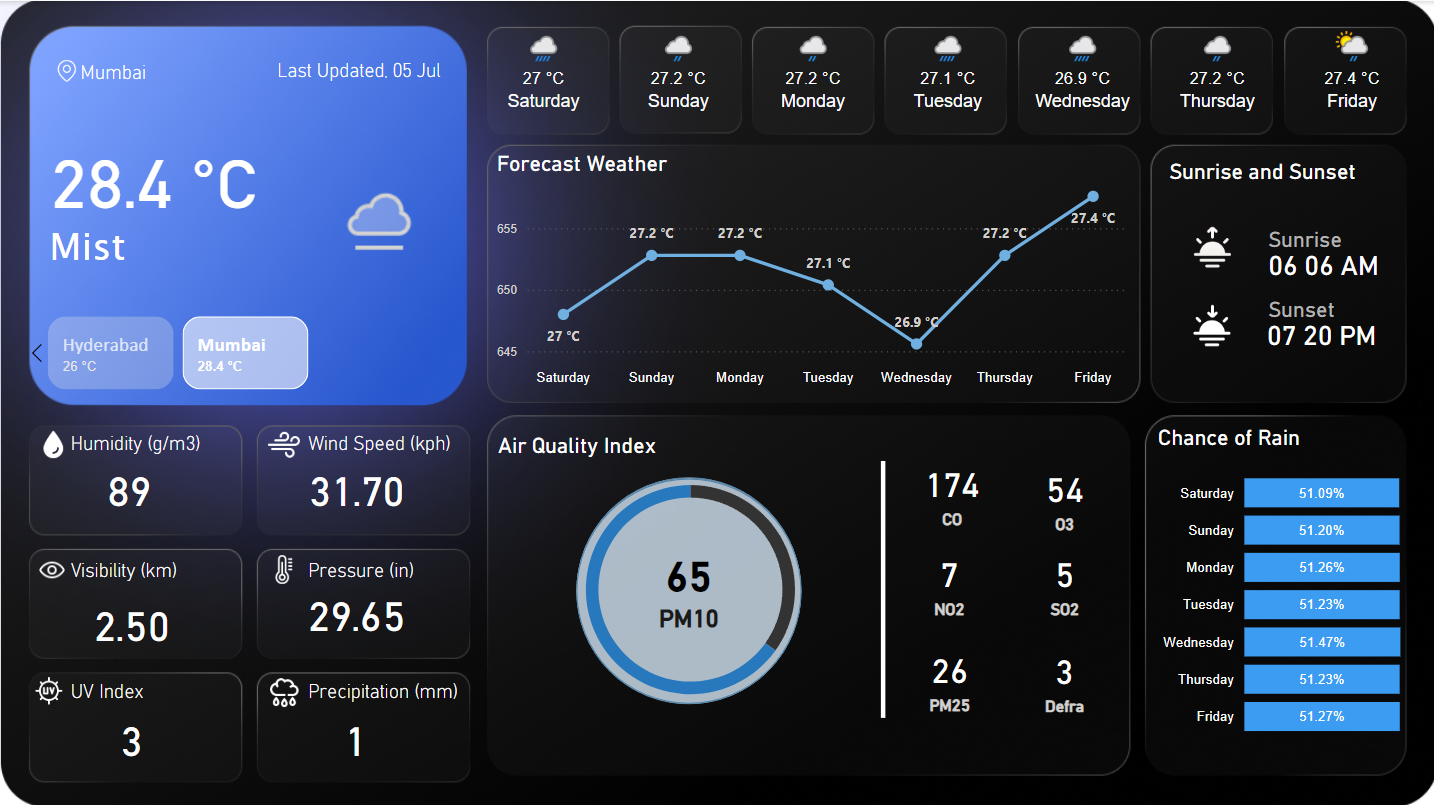

Layout of this report page (visuals, bound fields, positions):
{"tool":"powerbi","page":{"name":"Page 1","canvas":[1280,720],"ordinal":0},"visuals":[{"type":"advancedSlicerVisual","fields":{"Values":["Locations.location.name"]},"box":[17.5,276.2,402.5,75],"z":0},{"type":"shape","box":[36.2,106.2,222.5,112.5],"z":1000},{"type":"shape","box":[36.2,170,403.8,97.5],"z":2000},{"type":"shape","box":[67.5,36.2,110,52.5],"z":3000},{"type":"shape","box":[237.7,35,158,53.1],"z":4000},{"type":"image","box":[26.2,47.5,66.2,28.8],"z":5000},{"type":"cardVisual","fields":{"Data":["Min(current.current.condition.icon)"]},"box":[270.9,133.3,124.9,106.7],"z":6000},{"type":"image","box":[26.7,488.4,39.3,36.5],"z":7000},{"type":"shape","box":[58.9,480,158.6,53.3],"z":8000},{"type":"shape","box":[270.9,367.7,158.6,53.3],"z":9000},{"type":"image","box":[26.7,377.5,42.1,35.1],"z":10000},{"type":"shape","box":[58.9,367.7,158.6,53.3],"z":11000},{"type":"image","box":[230.2,374.7,45,40],"z":12000},{"type":"shape","box":[270.9,480,158.6,53.3],"z":13000},{"type":"shape","box":[270.9,588.1,158.6,53.3],"z":14000},{"type":"shape","box":[58.9,588.1,158.6,53.3],"z":15000},{"type":"image","box":[230.2,595.1,44.9,40.7],"z":16000},{"type":"image","box":[21.1,596.5,44.9,35],"z":17000},{"type":"image","box":[230.2,488.4,44.9,35.1],"z":18000},{"type":"card","fields":{"Values":["Sum(current.current.humidity)"]},"box":[50.5,390.2,130.5,85.6],"z":19000},{"type":"card","fields":{"Values":["Sum(current.current.wind_kph)"]},"box":[252.6,390.2,130.5,85.6],"z":20000},{"type":"card","fields":{"Values":["Sum(current.current.pressure_in)"]},"box":[252.6,502.5,130.5,85.6],"z":21000},{"type":"card","fields":{"Values":["Sum(current.current.precip_mm)"]},"box":[251.2,613.3,130.5,85.6],"z":22000},{"type":"card","fields":{"Values":["Sum(current.current.vis_km)"]},"box":[51.9,510.9,130.5,85.6],"z":23000},{"type":"card","fields":{"Values":["Sum(current.current.uv)"]},"box":[51.9,613.3,130.5,85.6],"z":24000},{"type":"advancedSlicerVisual","fields":{"Values":["forecast_day.Day_Name"]},"box":[422.5,15.4,844.9,101.1],"z":25000},{"type":"lineChart","title":"Forecast Weather","fields":{"Y":["Sum(forecast_day.forecast.forecastday.day.avgtemp_c)"],"Category":["forecast_day.Day_Name"]},"box":[437.9,133.3,572.6,217.5],"z":26000},{"type":"shape","box":[1038.6,133.3,211.9,36.5],"z":27000},{"type":"shape","box":[1047,169.8,221.8,112.3],"z":28000},{"type":"shape","box":[1124.2,178.2,124.9,68.8],"z":29000},{"type":"shape","box":[1124.6,240.6,125.3,68.5],"z":30000},{"type":"shape","box":[1124.2,200.7,124.9,68.8],"z":31000},{"type":"shape","box":[1122.9,262.3,125.3,68.5],"z":32000},{"type":"image","box":[1049.8,193.7,60.4,50.5],"z":33000},{"type":"image","box":[1049.8,263.9,60.4,50.5],"z":34000},{"type":"hundredPercentStackedBarChart","title":"Chance of Rain","fields":{"Category":["forecast_day.Day_Name"],"Y":["Sum(forecast_day.forecast.forecastday.day.daily_chance_of_rain)","_Measures.left_value_rain"]},"box":[1026,377.5,226,291.9],"z":35000},{"type":"shape","box":[440.7,377.5,211.9,36.5],"z":36000},{"type":"card","fields":{"Values":["Sum(current.current.air_quality.co)"]},"box":[800,400,95.4,75.8],"z":37000},{"type":"card","fields":{"Values":["Sum(current.current.air_quality.gb-defra-index)"]},"box":[906.7,568.4,84.2,70.2],"z":38000},{"type":"shape","box":[513,424.4,200.5,202.2],"z":38250},{"type":"shape","box":[513.7,425.3,200.7,200.7],"z":38500},{"type":"card","fields":{"Values":["Sum(current.current.air_quality.no2)"]},"box":[797.2,481.4,96.8,74.4],"z":39000},{"type":"card","fields":{"Values":["Sum(current.current.air_quality.o3)"]},"box":[906.7,400,84.2,85.6],"z":40000},{"type":"card","fields":{"Values":["Sum(current.current.air_quality.pm2_5)"]},"box":[800,565.6,91.2,75.8],"z":42000},{"type":"card","fields":{"Values":["Sum(current.current.air_quality.so2)"]},"box":[906.7,481.4,84.2,74.4],"z":43000},{"type":"shape","box":[738.2,409.8,96.8,228.8],"z":44000},{"type":"donutChart","fields":{"Y":["_Measures.left_pm10","Sum(current.current.air_quality.pm10)"]},"box":[482.8,402.8,263.9,242.8],"z":45000},{"type":"card","fields":{"Values":["Sum(current.current.air_quality.pm10)"]},"box":[548.1,467.9,132,108.6],"z":45500}]}

Visuals, with their boxes in screenshot pixels (x1, y1, x2, y2), scaled from the page's 1280x720 canvas onto the 1434x805 screenshot:
advancedSlicerVisual - Locations.location.name: l=20, t=309, r=471, b=393
shape: l=41, t=119, r=290, b=245
shape: l=41, t=190, r=493, b=299
shape: l=76, t=40, r=199, b=99
shape: l=266, t=39, r=443, b=99
image: l=29, t=53, r=104, b=85
cardVisual - Min(current.current.condition.icon): l=303, t=149, r=443, b=268
image: l=30, t=546, r=74, b=587
shape: l=66, t=537, r=244, b=596
shape: l=303, t=411, r=481, b=471
image: l=30, t=422, r=77, b=461
shape: l=66, t=411, r=244, b=471
image: l=258, t=419, r=308, b=464
shape: l=303, t=537, r=481, b=596
shape: l=303, t=658, r=481, b=717
shape: l=66, t=658, r=244, b=717
image: l=258, t=665, r=308, b=711
image: l=24, t=667, r=74, b=706
image: l=258, t=546, r=308, b=585
card - Sum(current.current.humidity): l=57, t=436, r=203, b=532
card - Sum(current.current.wind_kph): l=283, t=436, r=429, b=532
card - Sum(current.current.pressure_in): l=283, t=562, r=429, b=658
card - Sum(current.current.precip_mm): l=281, t=686, r=428, b=781
card - Sum(current.current.vis_km): l=58, t=571, r=204, b=667
card - Sum(current.current.uv): l=58, t=686, r=204, b=781
advancedSlicerVisual - forecast_day.Day_Name: l=473, t=17, r=1420, b=130
"Forecast Weather" lineChart: l=491, t=149, r=1132, b=392
shape: l=1164, t=149, r=1401, b=190
shape: l=1173, t=190, r=1421, b=315
shape: l=1259, t=199, r=1399, b=276
shape: l=1260, t=269, r=1400, b=346
shape: l=1259, t=224, r=1399, b=301
shape: l=1258, t=293, r=1398, b=370
image: l=1176, t=217, r=1244, b=273
image: l=1176, t=295, r=1244, b=352
"Chance of Rain" hundredPercentStackedBarChart: l=1149, t=422, r=1403, b=748
shape: l=494, t=422, r=731, b=463
card - Sum(current.current.air_quality.co): l=896, t=447, r=1003, b=532
card - Sum(current.current.air_quality.gb-defra-index): l=1016, t=636, r=1110, b=714
shape: l=575, t=475, r=799, b=701
shape: l=576, t=476, r=800, b=700
card - Sum(current.current.air_quality.no2): l=893, t=538, r=1002, b=621
card - Sum(current.current.air_quality.o3): l=1016, t=447, r=1110, b=543
card - Sum(current.current.air_quality.pm2_5): l=896, t=632, r=998, b=717
card - Sum(current.current.air_quality.so2): l=1016, t=538, r=1110, b=621
shape: l=827, t=458, r=935, b=714
donutChart - _Measures.left_pm10 x Sum(current.current.air_quality.pm10): l=541, t=450, r=837, b=722
card - Sum(current.current.air_quality.pm10): l=614, t=523, r=762, b=645
